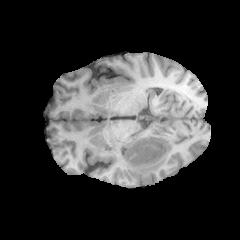glioma: (121, 135, 175, 181)
